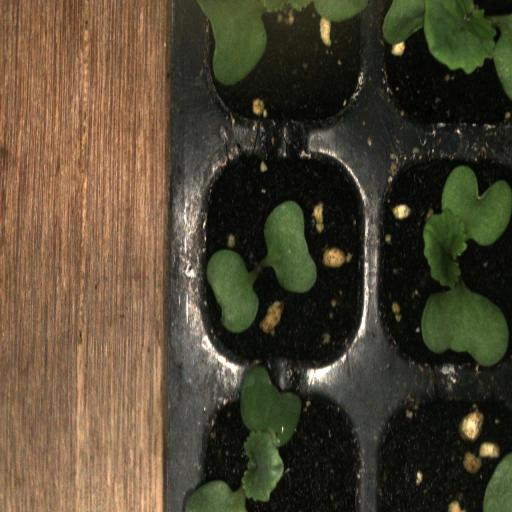Folha: (264, 200, 317, 293), (206, 249, 259, 333)
Germinacao: (185, 146, 373, 386), (374, 147, 512, 383), (184, 386, 373, 512), (373, 0, 512, 148)
